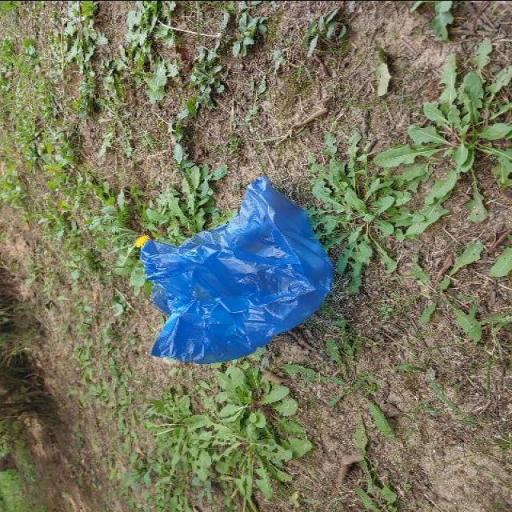plastic-bag: (139, 171, 339, 366)
